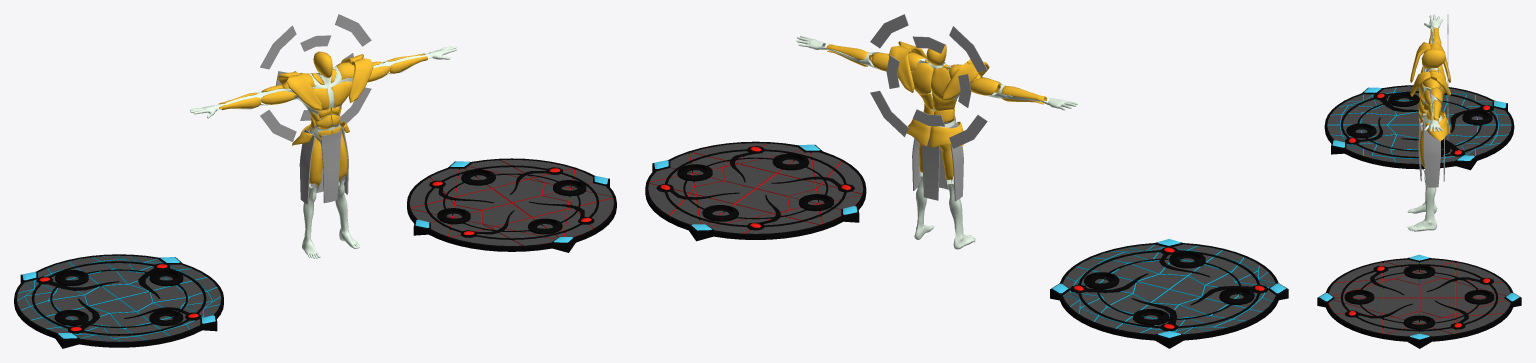
Rendered from AoeAndGaurdianv1.fbx.
The picture shows the model from 3 angles, left to right: view 1: azimuth 30°, elevation 25°; view 2: azimuth 150°, elevation 25°; view 3: azimuth 270°, elevation 25°; orthographic projection. The views are drawn at different scales.
Parts seen in each view (by area): view 1: Tiled_floor_v2, TiledFloor9, polymsh1, cylinder, OuterRing, OuterRing9, Crack, InnerRing, InnerRing9, Middle_RIng, Middle_RIng9, cube1 (+6 smaller); view 2: Tiled_floor_v2, TiledFloor9, cylinder, OuterRing, polymsh1, OuterRing9, InnerRing, Crack, InnerRing9, Middle_RIng, Middle_RIng9, Crack_v2 (+6 smaller); view 3: Tiled_floor_v2, TiledFloor9, OuterRing9, OuterRing, InnerRing9, Crack, InnerRing, polymsh1, Crack_v2, Middle_RIng9, Middle_RIng, cube5 (+11 smaller).
Part boxes in pixels (left/top/right/bottom): Tiled_floor_v2: left=409, top=159, right=613, bottom=245; TiledFloor9: left=17, top=255, right=221, bottom=341; polymsh1: left=190, top=46, right=457, bottom=258; cylinder: left=260, top=14, right=371, bottom=141; OuterRing: left=14, top=254, right=223, bottom=348; OuterRing9: left=407, top=158, right=616, bottom=252; Crack: left=17, top=256, right=220, bottom=341; InnerRing: left=50, top=269, right=187, bottom=328; InnerRing9: left=437, top=169, right=586, bottom=234; Middle_RIng: left=31, top=261, right=206, bottom=335; Middle_RIng9: left=424, top=165, right=599, bottom=240; cube1: left=321, top=131, right=341, bottom=203; Tiled_floor_v2: left=648, top=143, right=863, bottom=233; TiledFloor9: left=1063, top=244, right=1275, bottom=334; cylinder: left=870, top=14, right=987, bottom=148; OuterRing: left=1050, top=242, right=1288, bottom=348; polymsh1: left=796, top=35, right=1077, bottom=249; OuterRing9: left=645, top=141, right=866, bottom=241; InnerRing: left=1084, top=251, right=1254, bottom=325; Crack: left=1063, top=244, right=1275, bottom=334; InnerRing9: left=677, top=153, right=833, bottom=221; Middle_RIng: left=1070, top=247, right=1268, bottom=331; Middle_RIng9: left=656, top=146, right=854, bottom=230; Crack_v2: left=649, top=143, right=862, bottom=233; Tiled_floor_v2: left=1329, top=259, right=1510, bottom=336; TiledFloor9: left=1327, top=86, right=1511, bottom=163; OuterRing9: left=1317, top=257, right=1521, bottom=348; OuterRing: left=1324, top=85, right=1514, bottom=170; InnerRing9: left=1344, top=264, right=1494, bottom=329; Crack: left=1327, top=86, right=1511, bottom=163; InnerRing: left=1346, top=92, right=1492, bottom=155; polymsh1: left=1407, top=14, right=1443, bottom=231; Crack_v2: left=1328, top=260, right=1509, bottom=333; Middle_RIng9: left=1340, top=264, right=1498, bottom=331; Middle_RIng: left=1340, top=91, right=1498, bottom=158; cube5: left=1424, top=123, right=1440, bottom=187.
Bounding box in the file's own units: 156 × 57.56 × 52.79.
